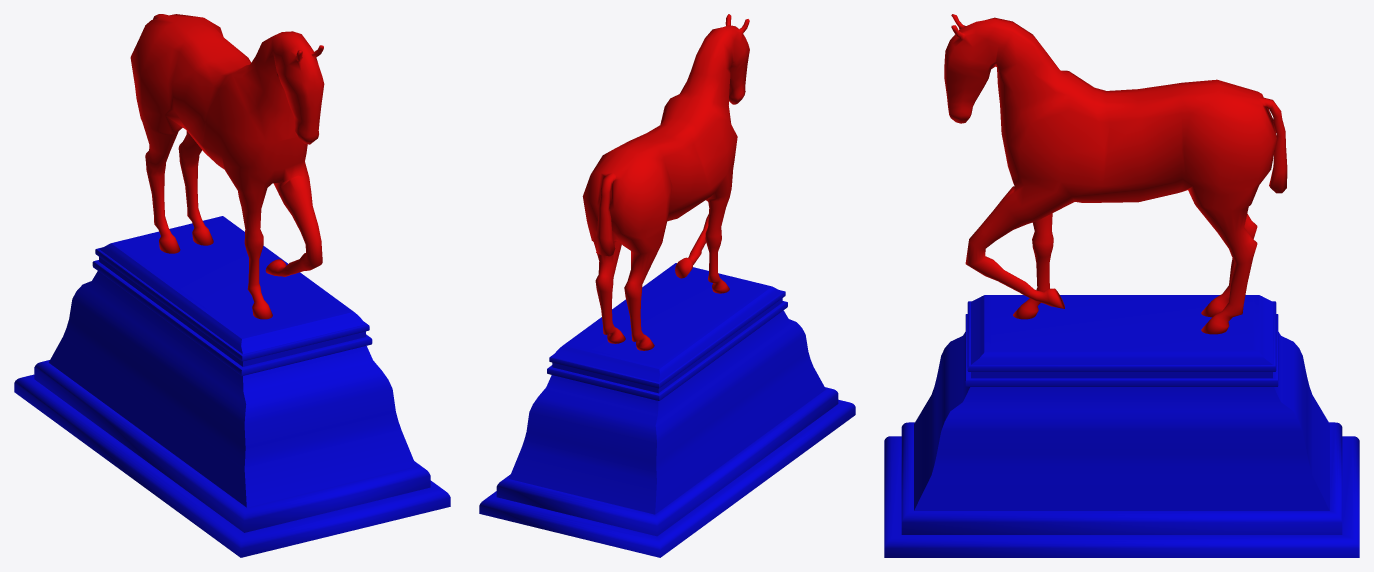
Rendered from HorseStatueVertexPaint.fbx.
The picture shows the model from 3 angles, left to right: view 1: azimuth 30°, elevation 25°; view 2: azimuth 150°, elevation 25°; view 3: azimuth 270°, elevation 25°; orthographic projection. The views are drawn at different scales.
Visible parts, largest first — view 1: Box005; view 2: Box005; view 3: Box005.
Part boxes in pixels (<box>): Box005: <box>14,14,450,557</box>; Box005: <box>479,14,855,557</box>; Box005: <box>884,14,1359,557</box>.
Size of the model in its own units: 139 by 292 by 260.
